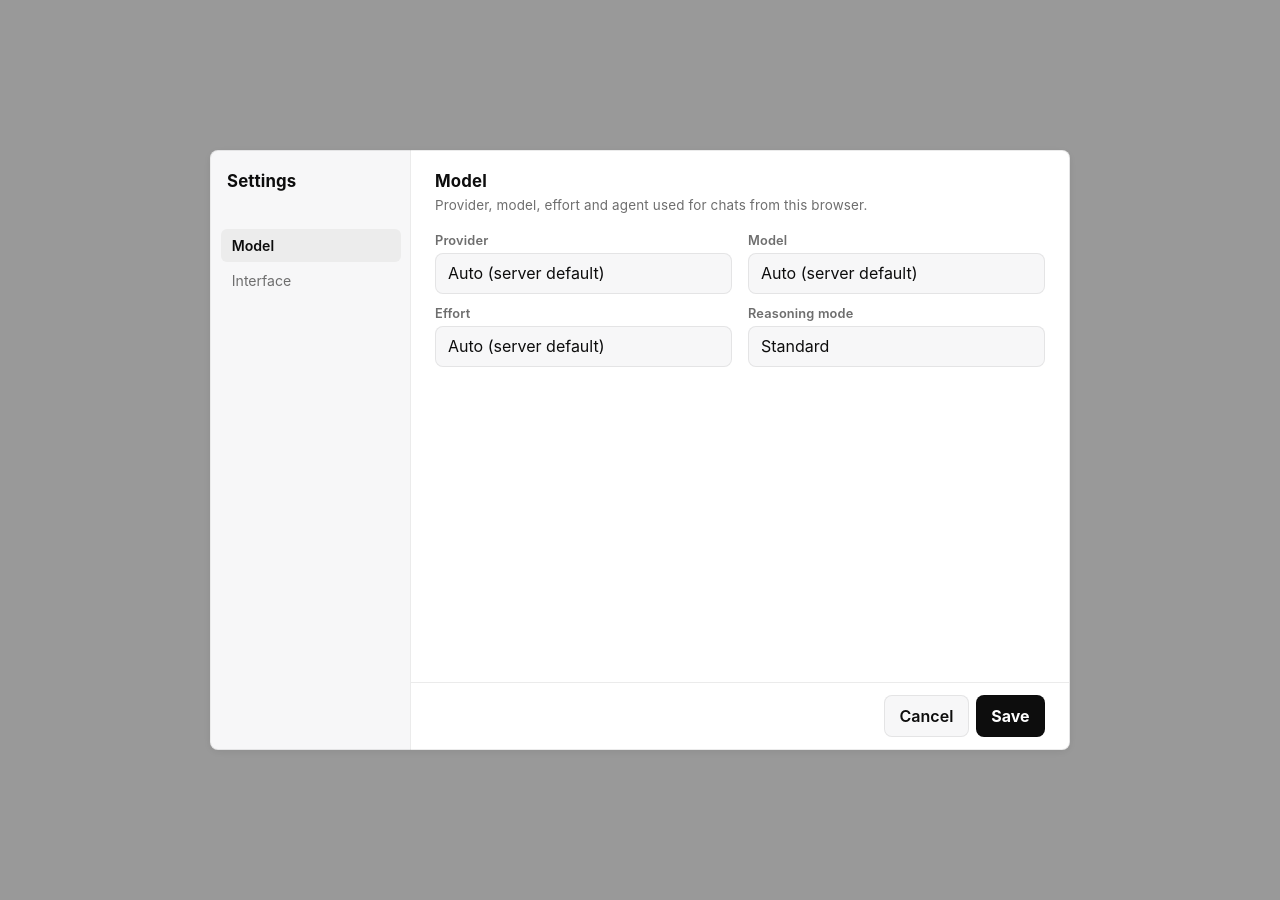
Test case: hides owner-only tabs and push controls for a linked-device client
The width and height of the screenshot is (1280, 900).
expect the tab "Linked devices" is not shown: met
Click the tab "Interface" at x=311, y=280, box [221,264,401,297]
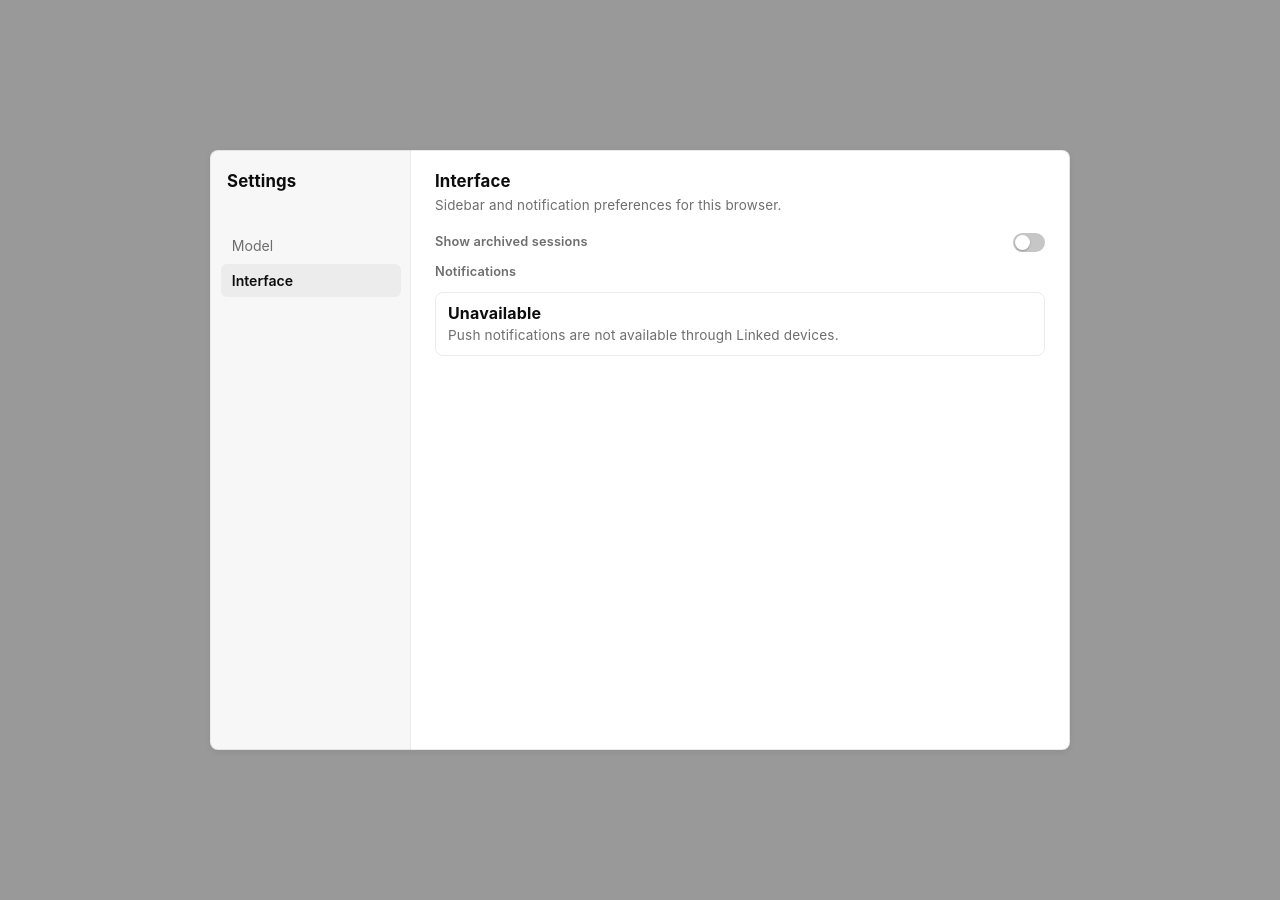
expect the text "Push notifications are not available through Linked devices." is shown: met, box [448,327,839,343]
